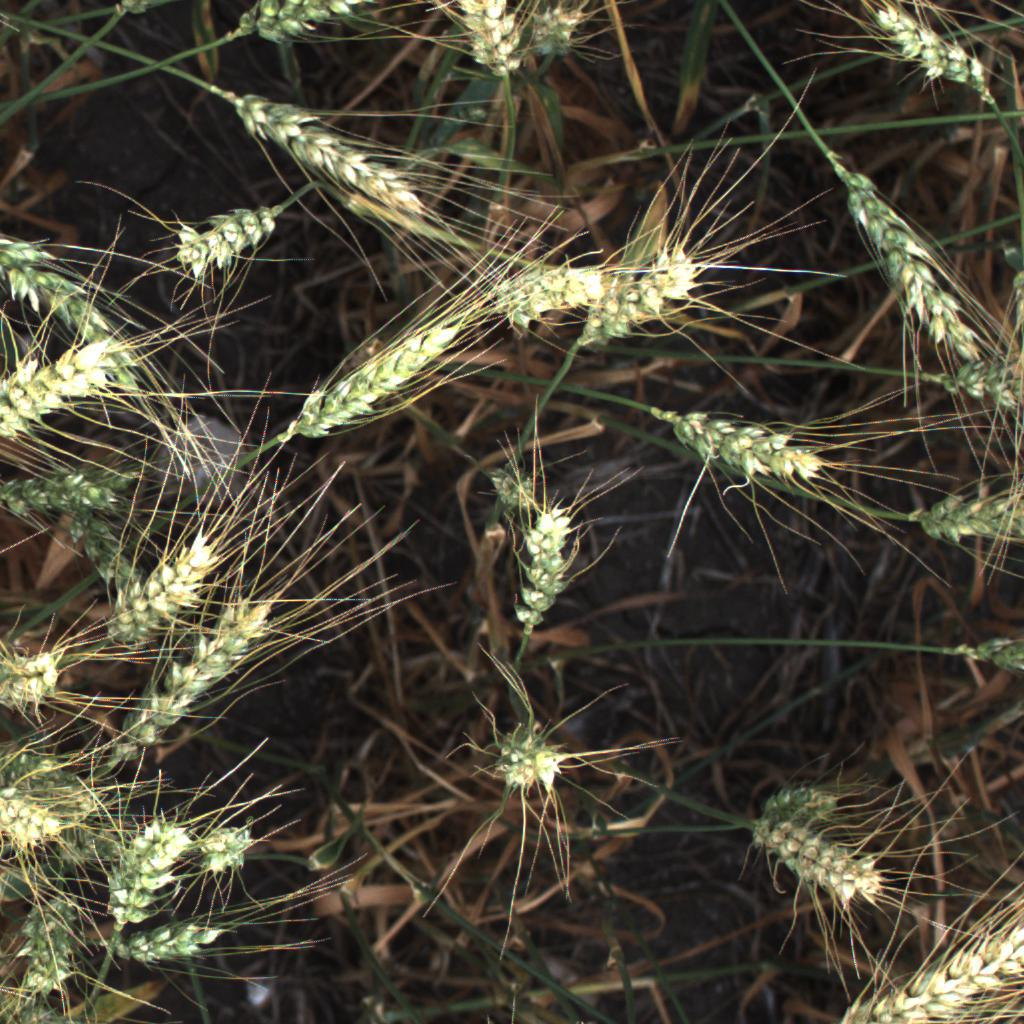0-0: (110, 572, 304, 772), (828, 158, 987, 369), (225, 80, 443, 231), (276, 311, 470, 460), (109, 511, 249, 654), (839, 918, 1024, 1024), (663, 394, 841, 491), (0, 330, 144, 445), (842, 0, 1009, 99), (572, 235, 709, 348), (0, 218, 121, 343), (744, 813, 890, 911), (94, 794, 196, 924), (168, 192, 291, 290), (487, 256, 621, 335), (104, 902, 234, 978), (906, 474, 1024, 554), (510, 508, 575, 649), (0, 459, 141, 521), (7, 889, 87, 995), (226, 0, 387, 52), (449, 0, 537, 85), (485, 715, 570, 799), (68, 505, 141, 599), (0, 629, 76, 719), (0, 778, 67, 864), (188, 815, 271, 884), (748, 778, 853, 828), (951, 621, 1024, 686), (931, 363, 1024, 411), (524, 1, 590, 61), (491, 450, 553, 513), (111, 0, 157, 19), (0, 798, 2, 884)
